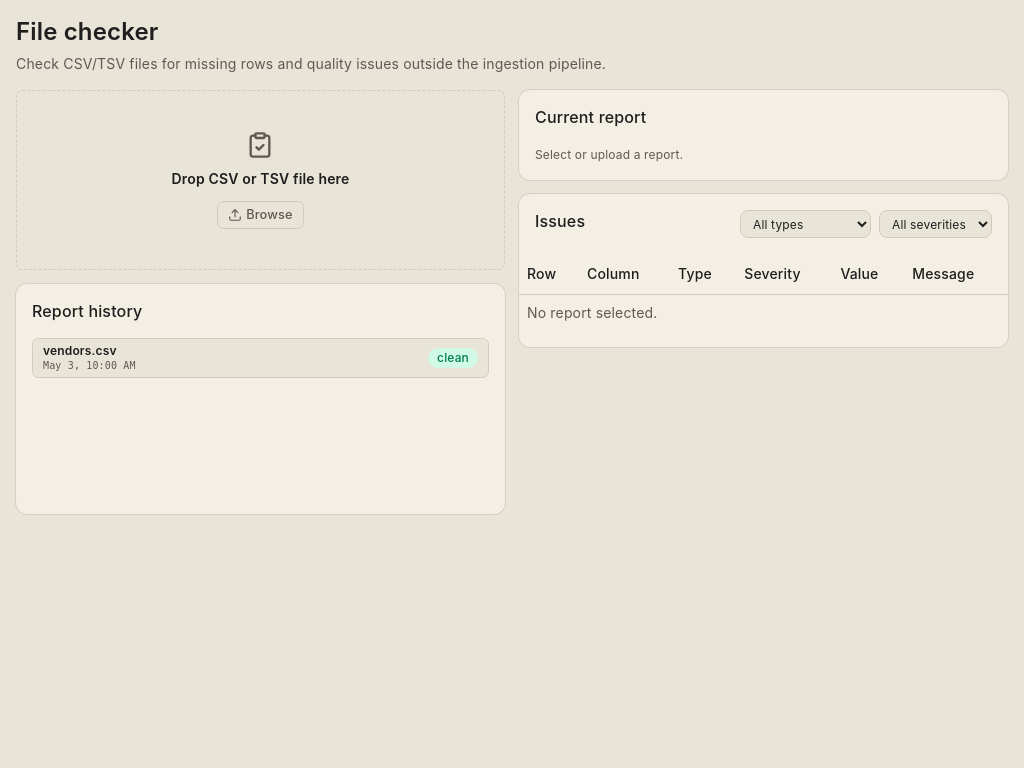
it: FileChecker page › shows a clean empty issue state when a report has no issues and filters are not active
This screenshot has width=1024, height=768.
Click the button "vendors.csv May 3, 10:00 AM clean" at (80, 350), box x1=32 y1=338 x2=489 y2=378
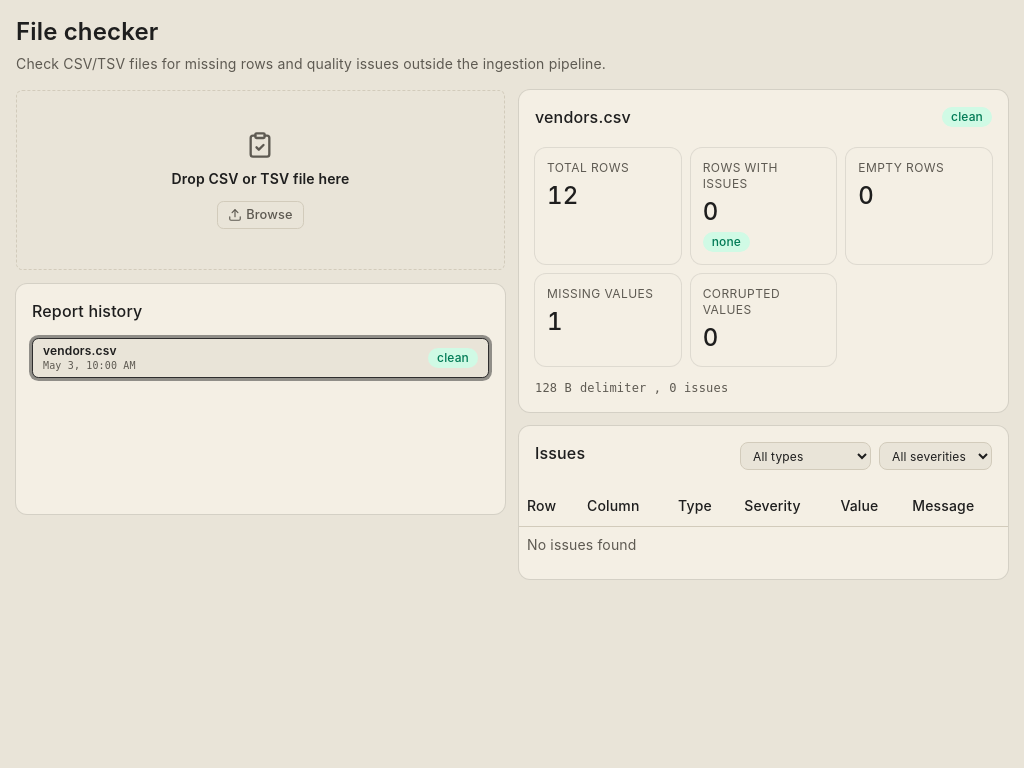
Check: the text "No issues found" is shown, box x1=519 y1=526 x2=1008 y2=562
